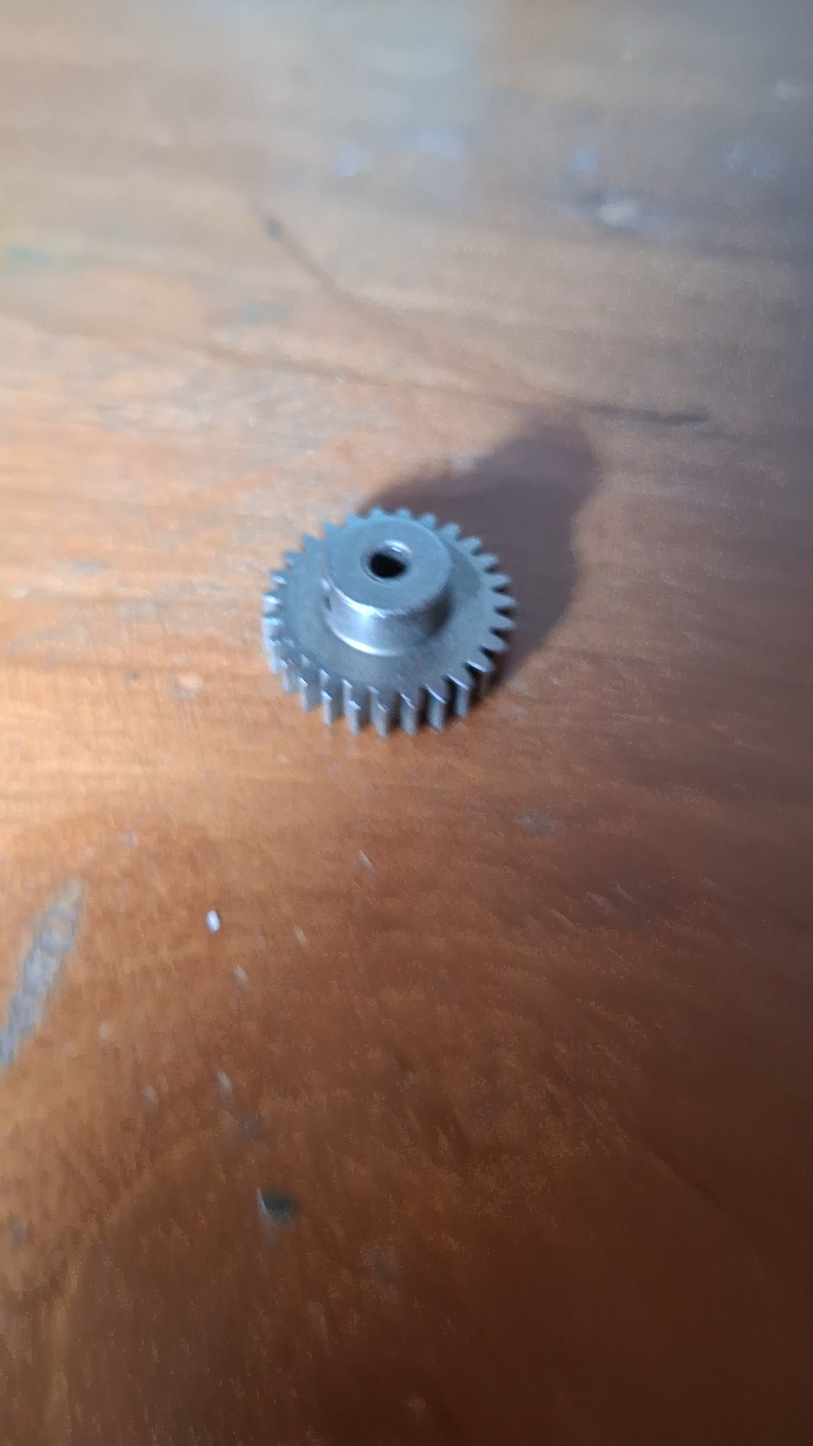spur gear: (262, 509, 515, 735)
